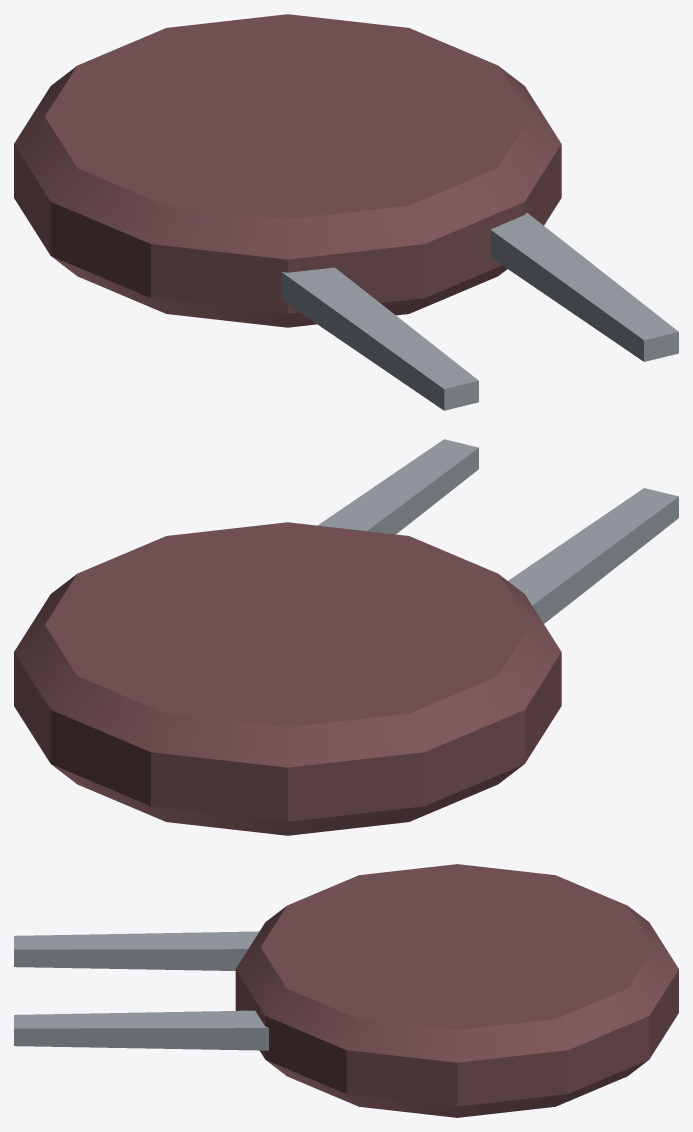
File: GEO_Capacitor.fbx
3 renders of one model, top to bottom at view 1: azimuth 30°, elevation 25°; view 2: azimuth 150°, elevation 25°; view 3: azimuth 270°, elevation 25°, orthographic. The views are drawn at different scales.
Visible parts, largest first — view 1: CapacitorBody, CapacitorLegs; view 2: CapacitorBody, CapacitorLegs; view 3: CapacitorBody, CapacitorLegs.
Boxes of the visible parts, bbox=[...] form: CapacitorBody: bbox=[14, 14, 561, 327]; CapacitorLegs: bbox=[281, 212, 678, 410]; CapacitorBody: bbox=[14, 522, 561, 835]; CapacitorLegs: bbox=[318, 439, 678, 623]; CapacitorBody: bbox=[235, 864, 678, 1117]; CapacitorLegs: bbox=[14, 931, 268, 1050].
Size of the model in its own units: 2 by 0.4363 by 3.
